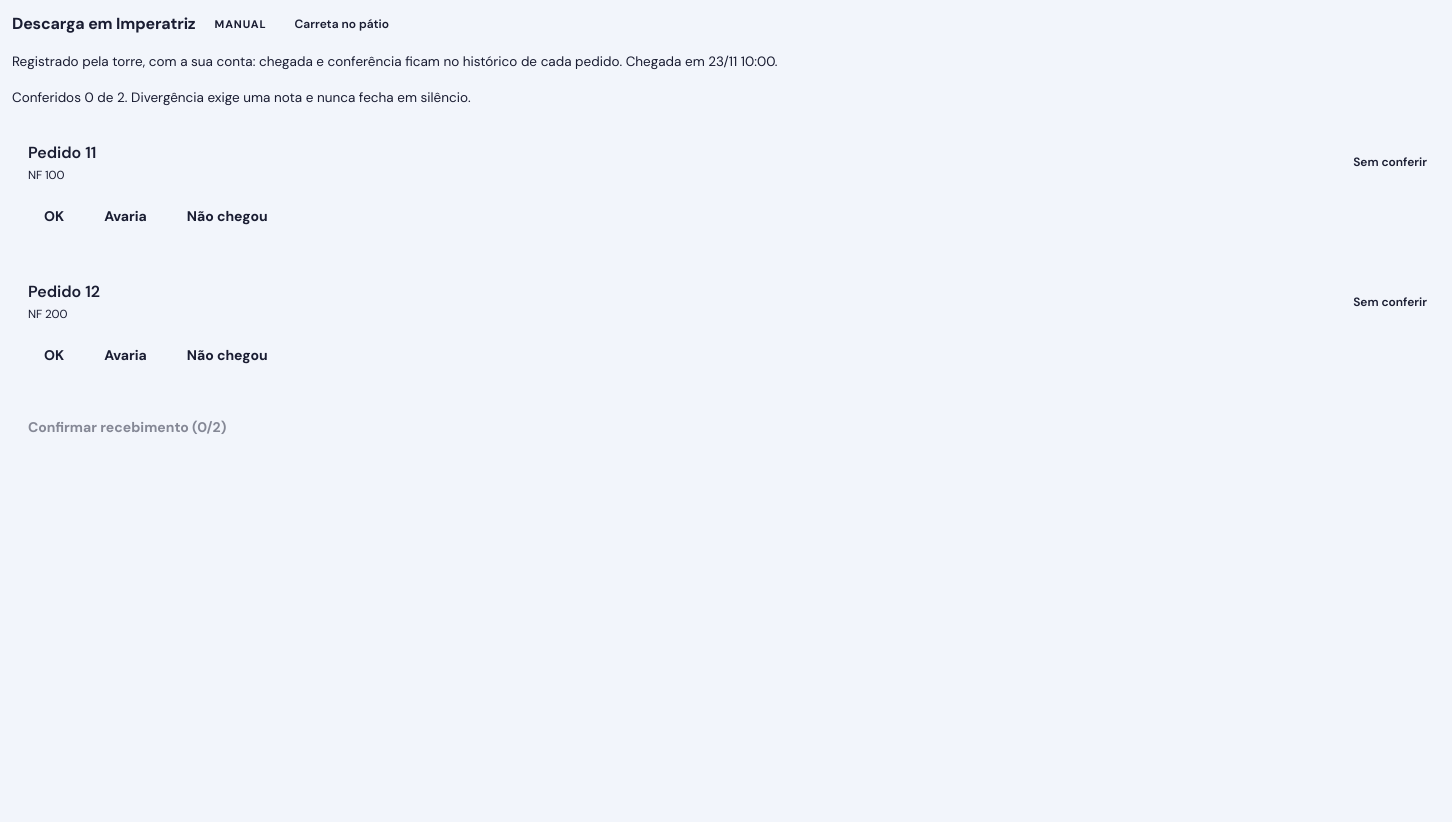
Test: doca da viagem na Gestão V2 › confere pedido a pedido, exige nota e conclui a parada com as marcações
Later steps or results of the test are not shown.
Expected: the button "Confirmar recebimento (0/2)" is disabled, [12,408,242,448]
Click the button with aria-label "Pedido 11: chegou certo" at [54, 216], box [28,196,80,236]
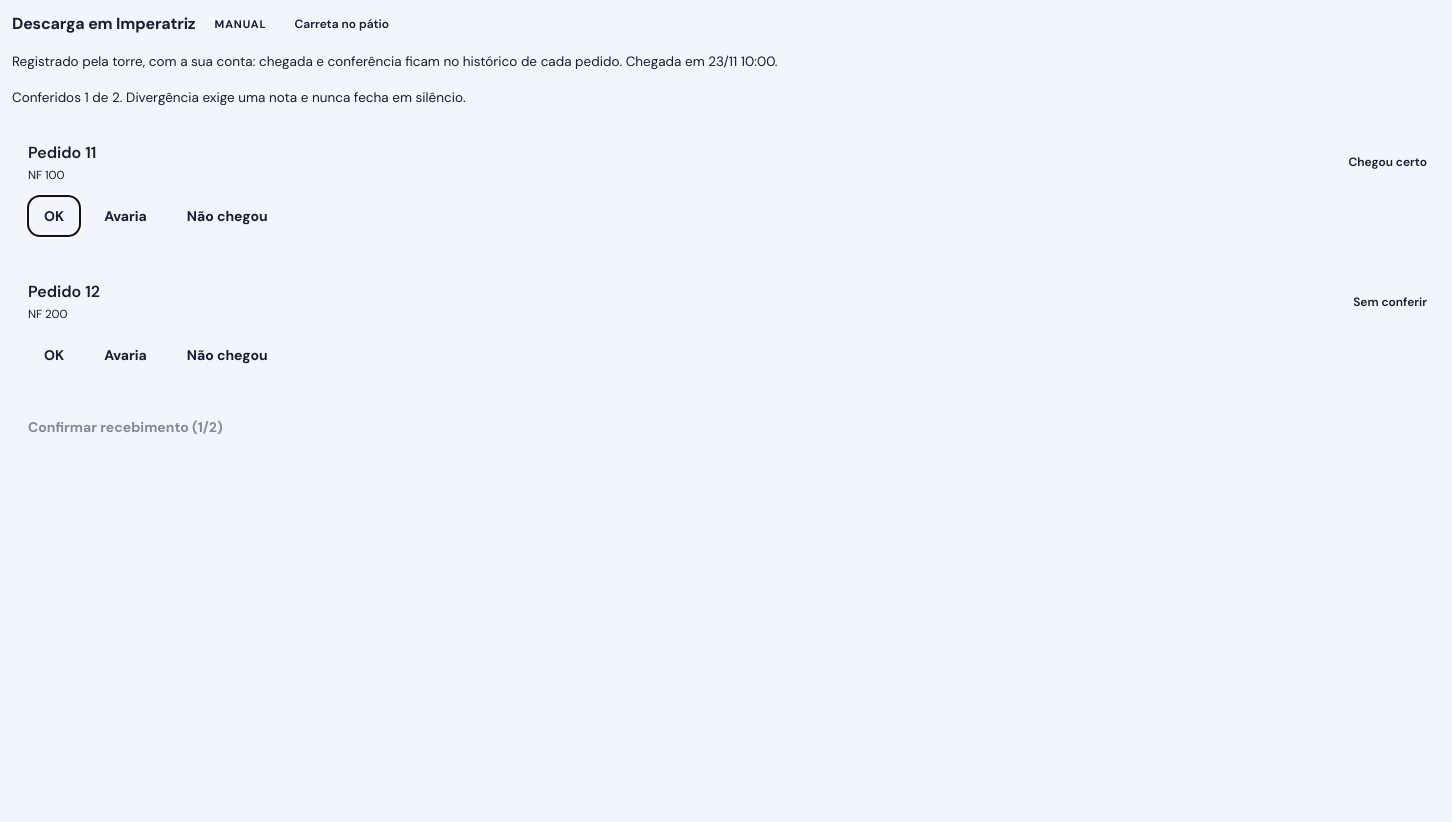
Click the button with aria-label "Pedido 12: avaria" at [125, 356], box [88,336,163,376]
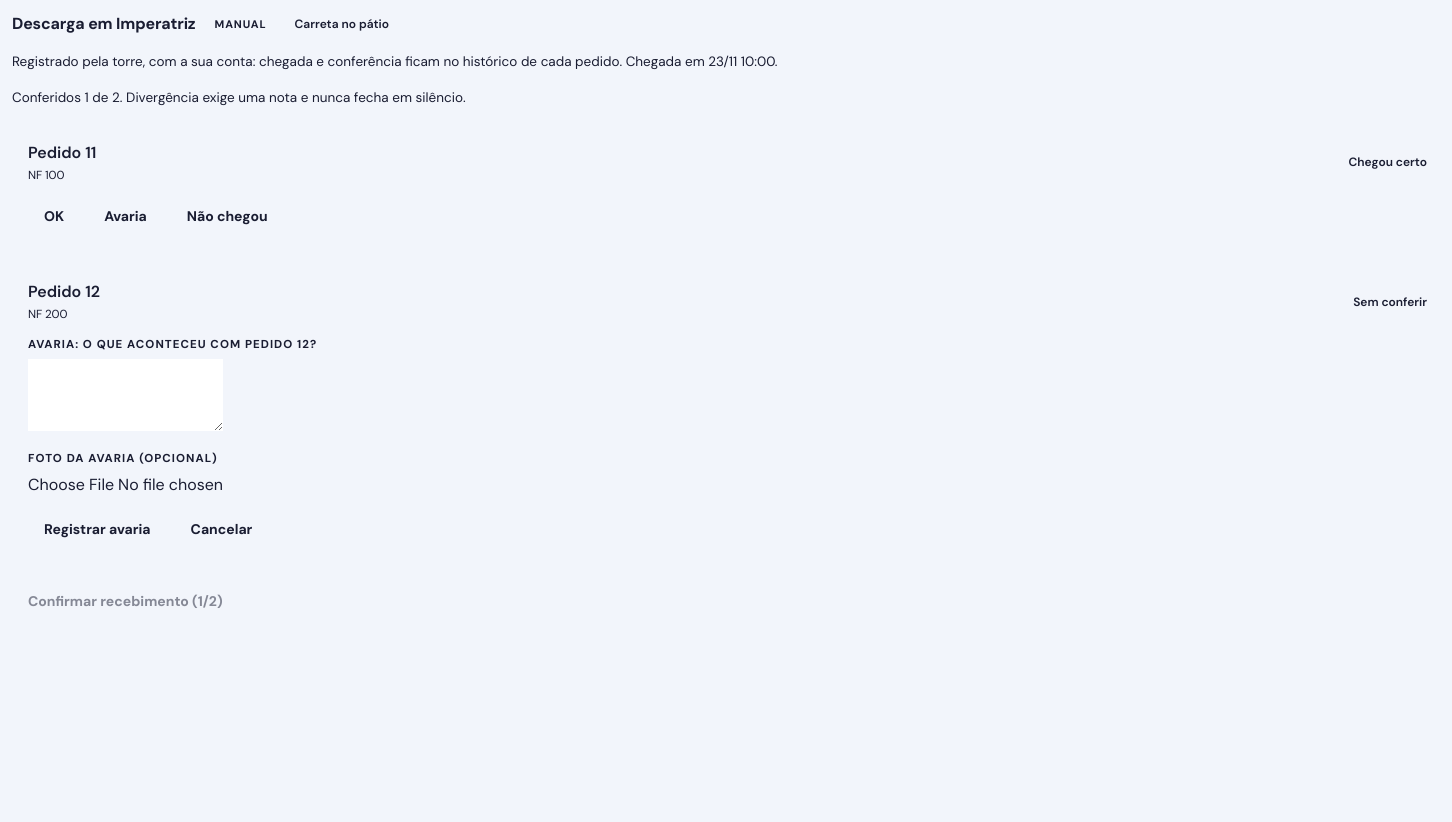
Click the button "Registrar avaria" at [97, 529], box [28,509,166,549]
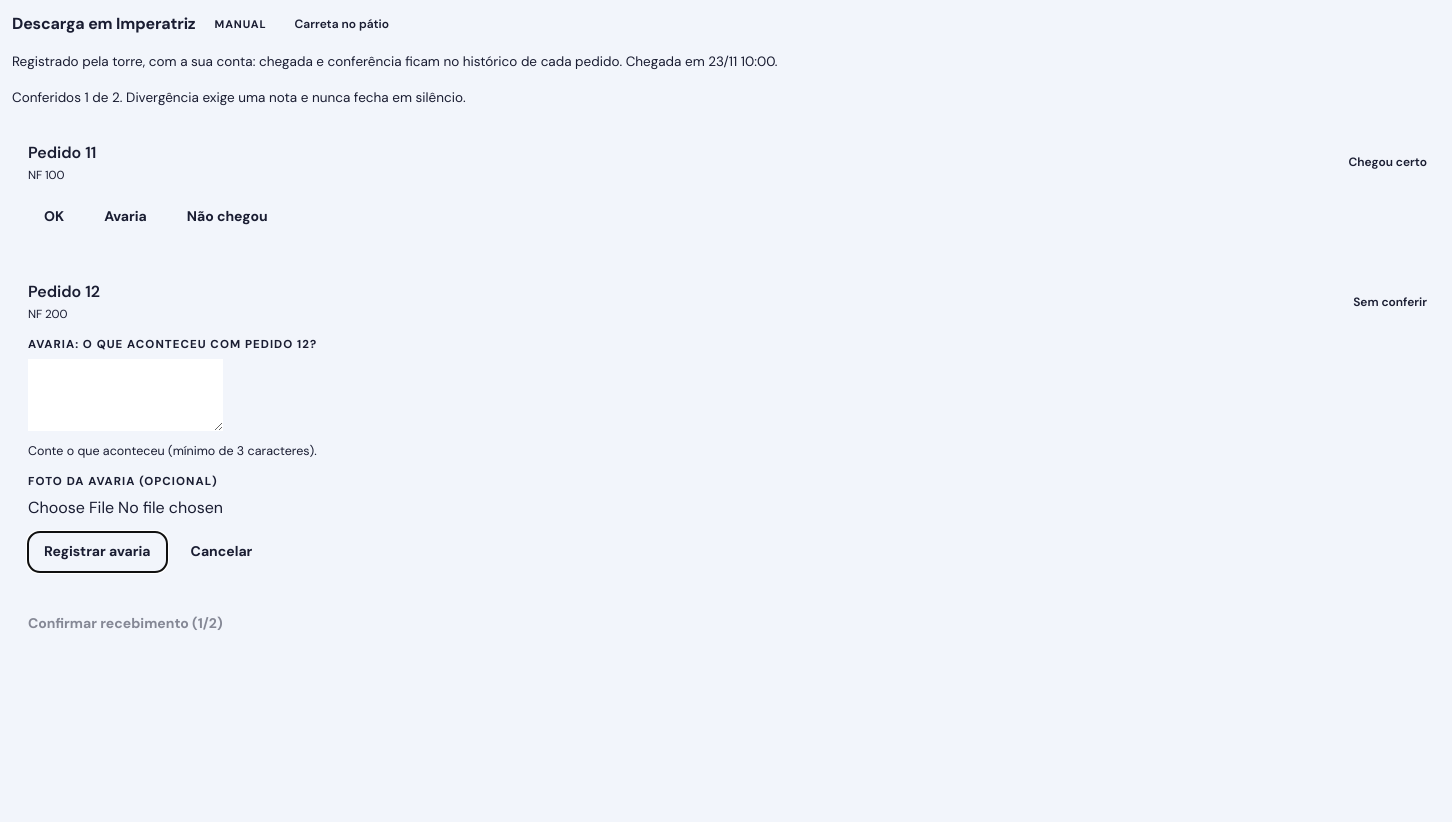
Now the text "Conte o que aconteceu (mínimo de 3 caracteres)." is shown, box [28,443,317,459]
